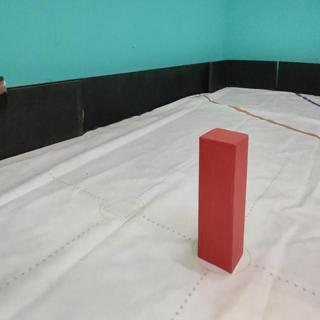redbox: (197, 126, 249, 273)
